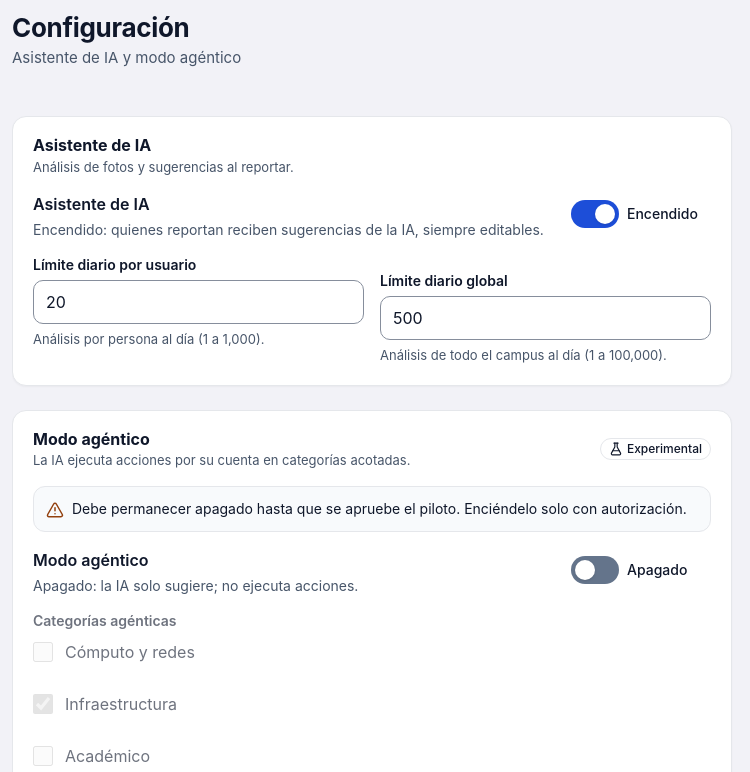
Test case: AdminConfiguracion › envía solo los campos modificados
Replace the text in the number field labelled "Límite diario por usuario" with "50". click: (198, 302)
box: [33,280,364,324]
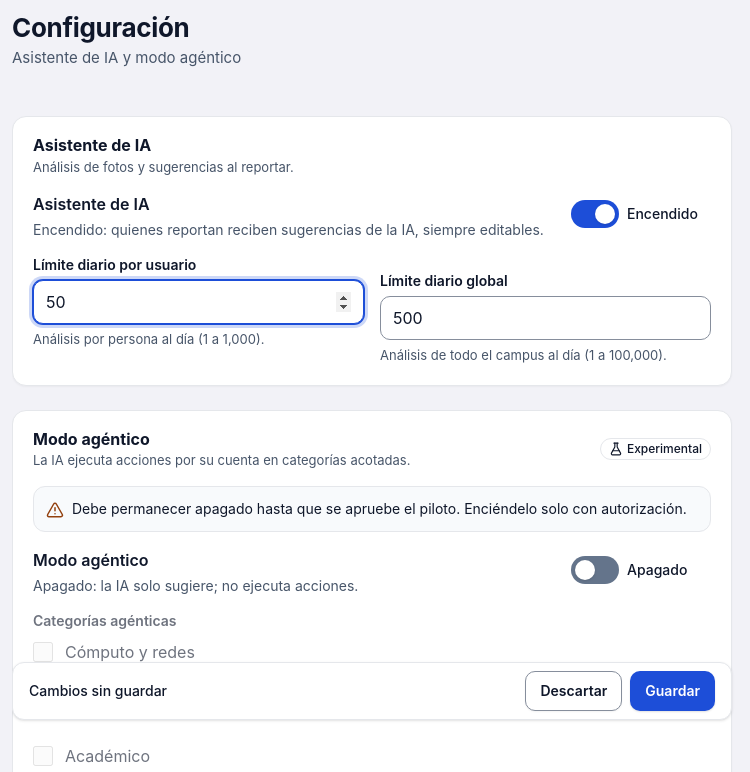
Click the button "Guardar". click: (673, 691)
box: [630,671,715,711]
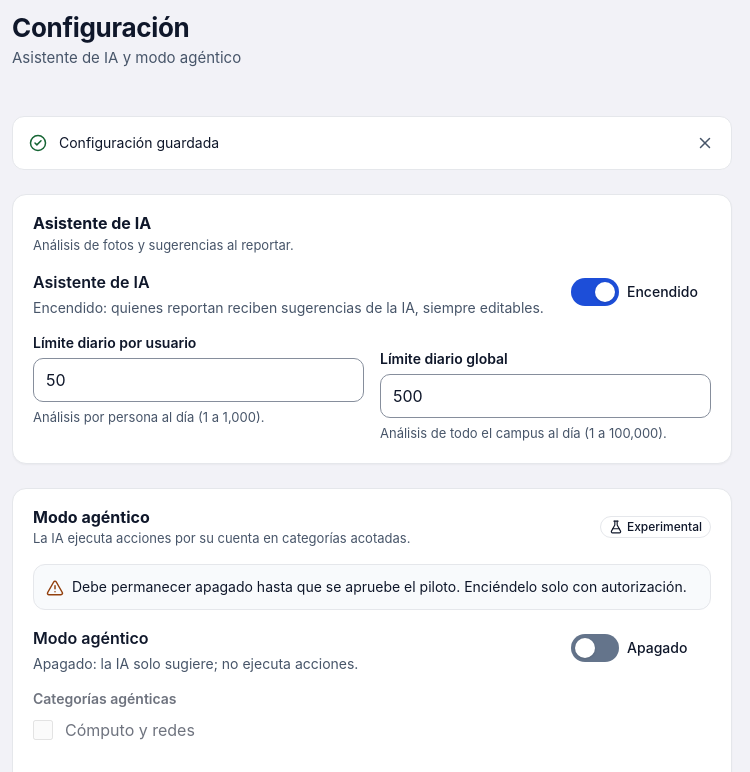
Result: the message reads "Configuración guardada" at [59,134,219,151]
Result: the text "Cambios sin guardar" is gone
